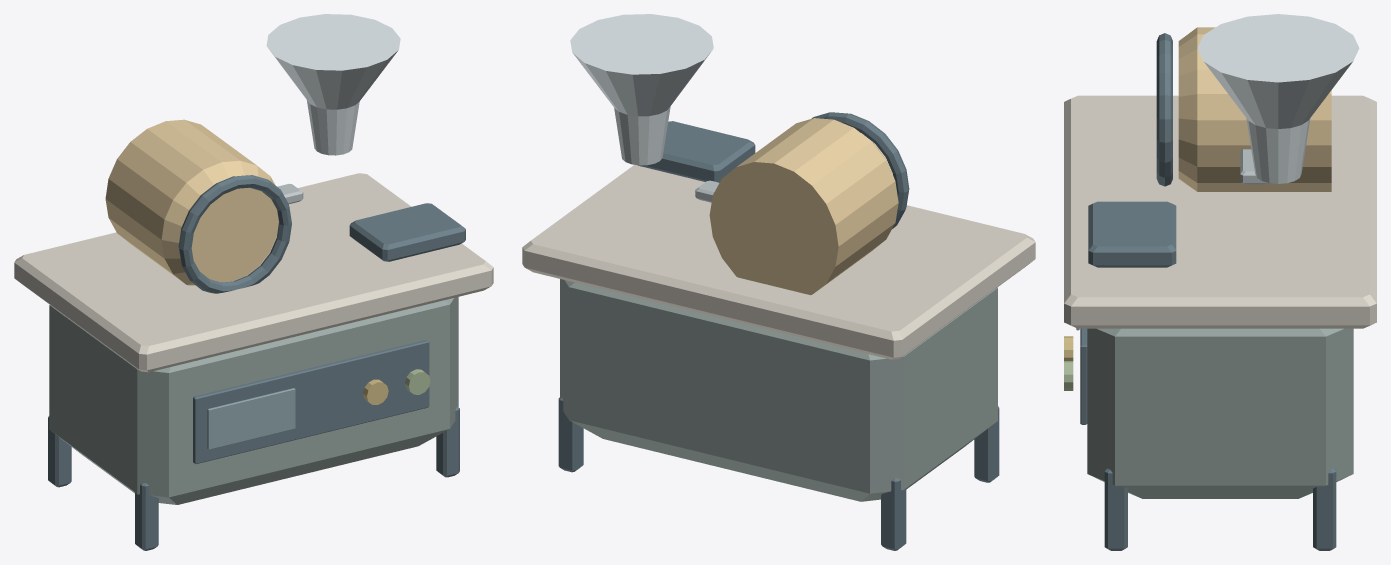
Rendered from coffee_roaster.glb.
The picture shows the model from 3 angles, left to right: view 1: azimuth 30°, elevation 25°; view 2: azimuth 150°, elevation 25°; view 3: azimuth 270°, elevation 25°; orthographic projection. The views are drawn at different scales.
Visible parts, largest first — view 1: coffee_roaster; view 2: coffee_roaster; view 3: coffee_roaster, Spinner.
Boxes of the visible parts, <box> form: coffee_roaster: <box>14,14,493,550</box>; coffee_roaster: <box>522,14,1035,550</box>; coffee_roaster: <box>1064,14,1376,550</box>; Spinner: <box>1240,149,1267,184</box>.
Bounding box in the file's own units: 2.12 × 2.25 × 1.35.
